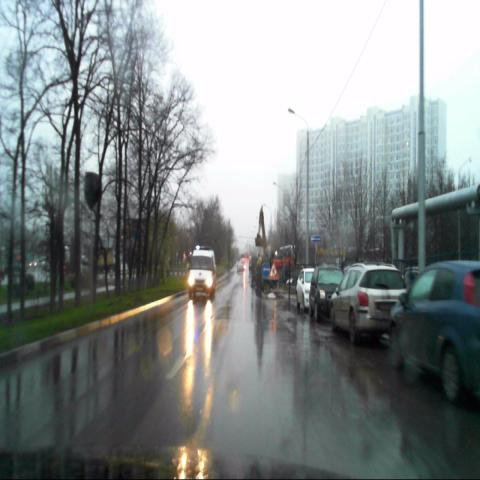1_25: (268, 263, 279, 279)
4_1_2_2: (261, 262, 269, 277)
